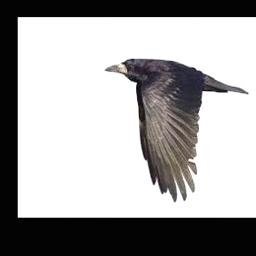Crow: (103, 58, 247, 200)
